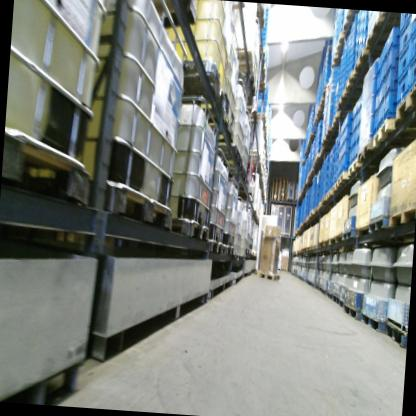pallet: (371, 116, 416, 150), (394, 73, 416, 127), (365, 18, 397, 51), (349, 157, 387, 181), (353, 44, 382, 72), (343, 65, 370, 93), (331, 107, 359, 129), (337, 88, 367, 108), (356, 140, 376, 166), (342, 9, 362, 35), (367, 216, 390, 236), (247, 6, 268, 26), (337, 172, 362, 188), (320, 136, 342, 154), (331, 181, 357, 196), (243, 150, 264, 168), (330, 51, 345, 73), (324, 127, 346, 141), (257, 271, 282, 283), (254, 49, 267, 71), (335, 33, 349, 53), (316, 201, 339, 213), (326, 188, 346, 201), (342, 227, 358, 241), (254, 109, 268, 123), (320, 195, 333, 207), (257, 79, 265, 96), (307, 212, 317, 223), (262, 124, 267, 137)
small_load_carrier: (375, 91, 398, 132), (380, 26, 401, 67), (378, 50, 399, 85), (379, 69, 398, 106), (396, 66, 412, 105), (397, 45, 411, 86), (398, 24, 413, 55), (339, 124, 353, 151), (355, 31, 368, 55), (337, 142, 351, 164), (409, 18, 416, 60), (338, 152, 350, 176), (410, 45, 416, 91), (341, 114, 352, 138), (401, 14, 411, 38), (348, 142, 360, 162), (350, 124, 358, 151), (352, 95, 361, 118), (335, 130, 342, 150), (358, 20, 368, 33), (359, 10, 369, 23), (353, 111, 360, 129), (411, 15, 416, 36), (333, 159, 338, 175), (332, 172, 338, 185), (334, 147, 340, 158)
